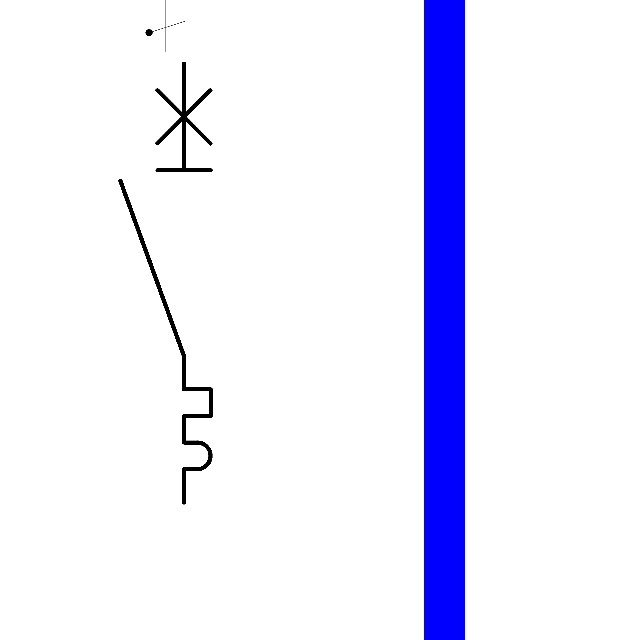interruptor_termomagnetico: (109, 52, 222, 514)
